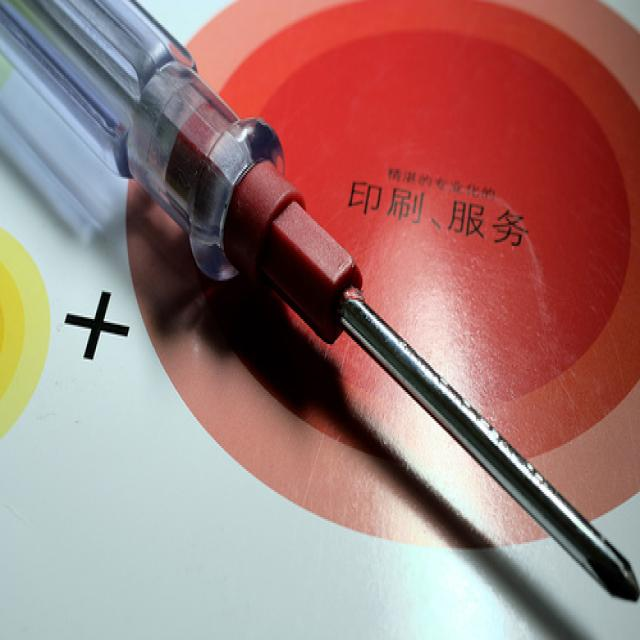screw_driver: (0, 0, 640, 602)
